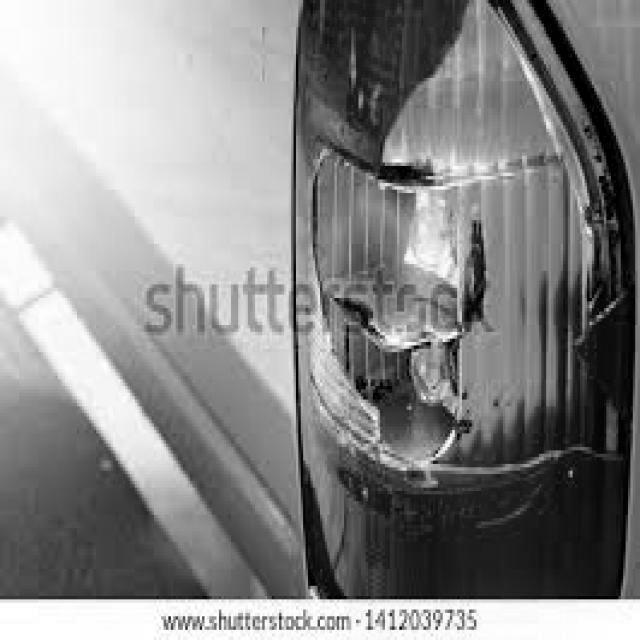Taillight-Damage: (312, 1, 561, 584)
